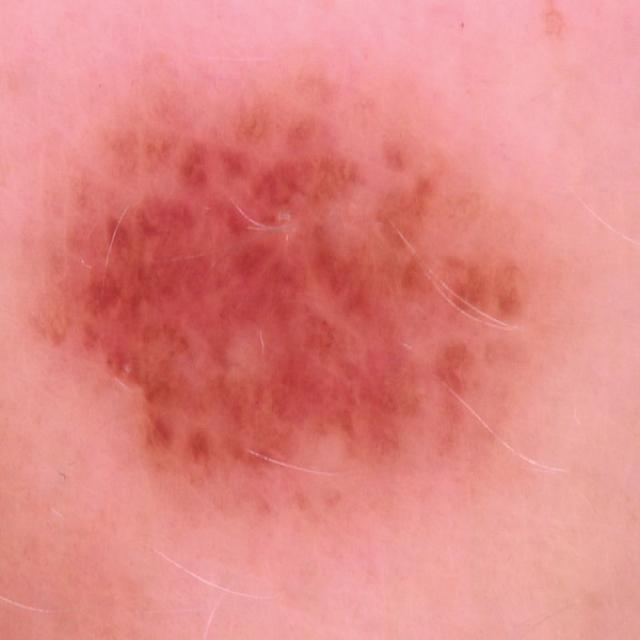NV: (12, 47, 576, 521)
